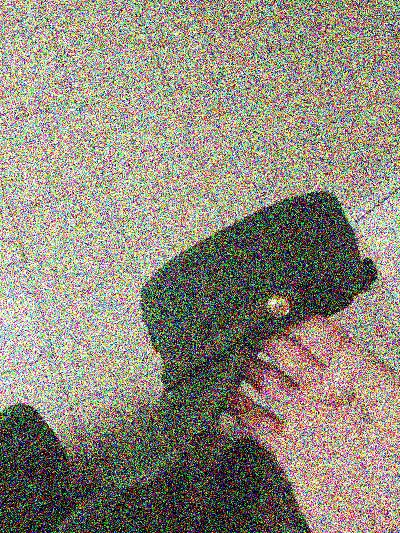Hat: (76, 159, 372, 504)
